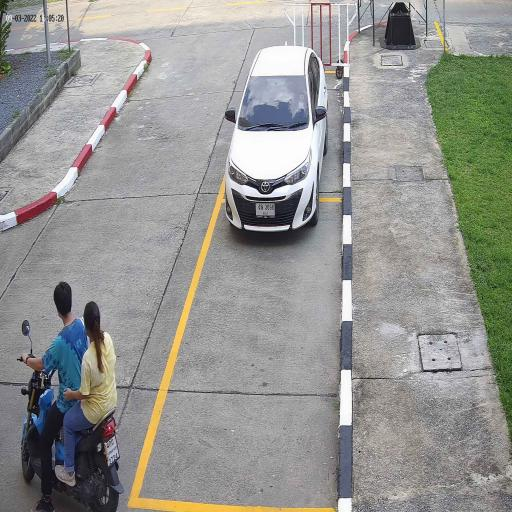car: (224, 44, 329, 235)
motorcycle: (20, 406, 122, 510)
